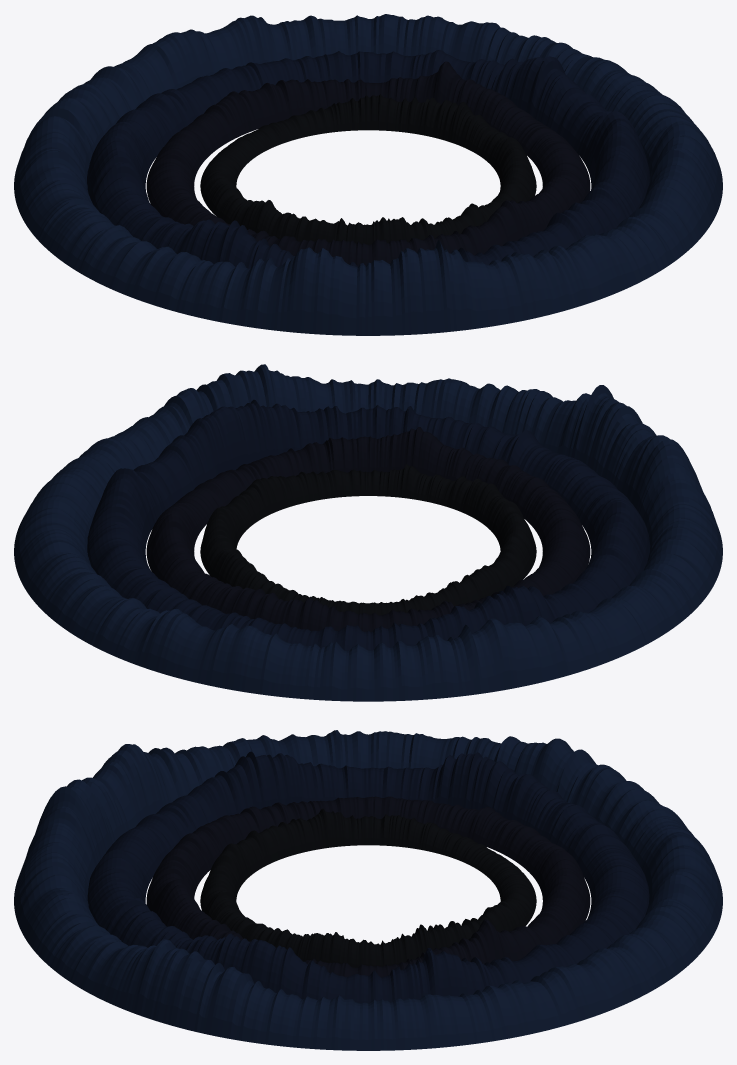
The model's file is mountains.glb.
The picture shows the model from 3 angles, top to bottom: view 1: azimuth 30°, elevation 25°; view 2: azimuth 150°, elevation 25°; view 3: azimuth 270°, elevation 25°; orthographic projection.
Visible parts, largest first — view 1: FD_Range_ring_3, FD_Range_ring_2, FD_Range_ring_1, FD_Range_ring_0; view 2: FD_Range_ring_3, FD_Range_ring_2, FD_Range_ring_1, FD_Range_ring_0; view 3: FD_Range_ring_3, FD_Range_ring_2, FD_Range_ring_1, FD_Range_ring_0.
Part boxes in pixels (left/top/right/bottom): FD_Range_ring_3: left=14, top=14, right=722, bottom=335; FD_Range_ring_2: left=87, top=50, right=649, bottom=268; FD_Range_ring_1: left=146, top=61, right=590, bottom=266; FD_Range_ring_0: left=200, top=94, right=536, bottom=244; FD_Range_ring_3: left=14, top=364, right=722, bottom=701; FD_Range_ring_2: left=87, top=399, right=650, bottom=650; FD_Range_ring_1: left=146, top=427, right=590, bottom=632; FD_Range_ring_0: left=200, top=464, right=536, bottom=615; FD_Range_ring_3: left=14, top=730, right=722, bottom=1050; FD_Range_ring_2: left=87, top=751, right=649, bottom=1003; FD_Range_ring_1: left=146, top=796, right=590, bottom=977; FD_Range_ring_0: left=200, top=808, right=536, bottom=967.
Bounding box in the file's own units: 6048 × 713 × 6048.
